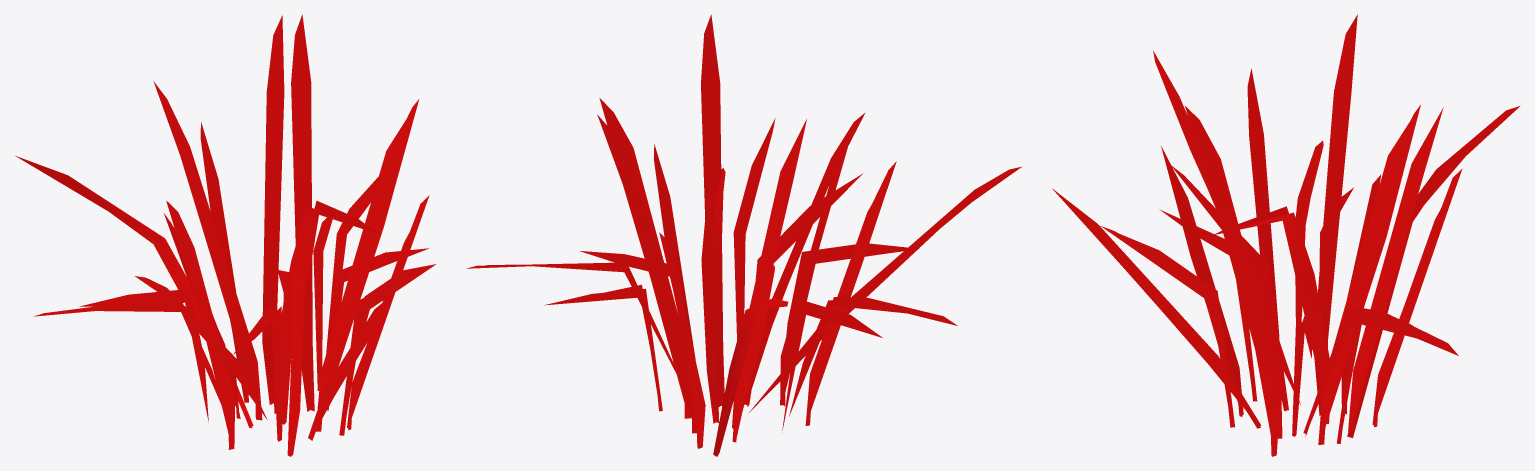
The model's file is grass.glb.
The picture shows the model from 3 angles, left to right: view 1: azimuth 30°, elevation 25°; view 2: azimuth 150°, elevation 25°; view 3: azimuth 270°, elevation 25°; orthographic projection. The views are drawn at different scales.
Visible parts, largest first — view 1: Grass_Wispy_Short; view 2: Grass_Wispy_Short; view 3: Grass_Wispy_Short.
Part boxes in pixels (box(x1,y1,x2,y2)): Grass_Wispy_Short: box(15, 14, 436, 456); Grass_Wispy_Short: box(466, 14, 1021, 456); Grass_Wispy_Short: box(1052, 14, 1519, 456).
Bounding box in the file's own units: 1.32 × 1.07 × 1.21.
